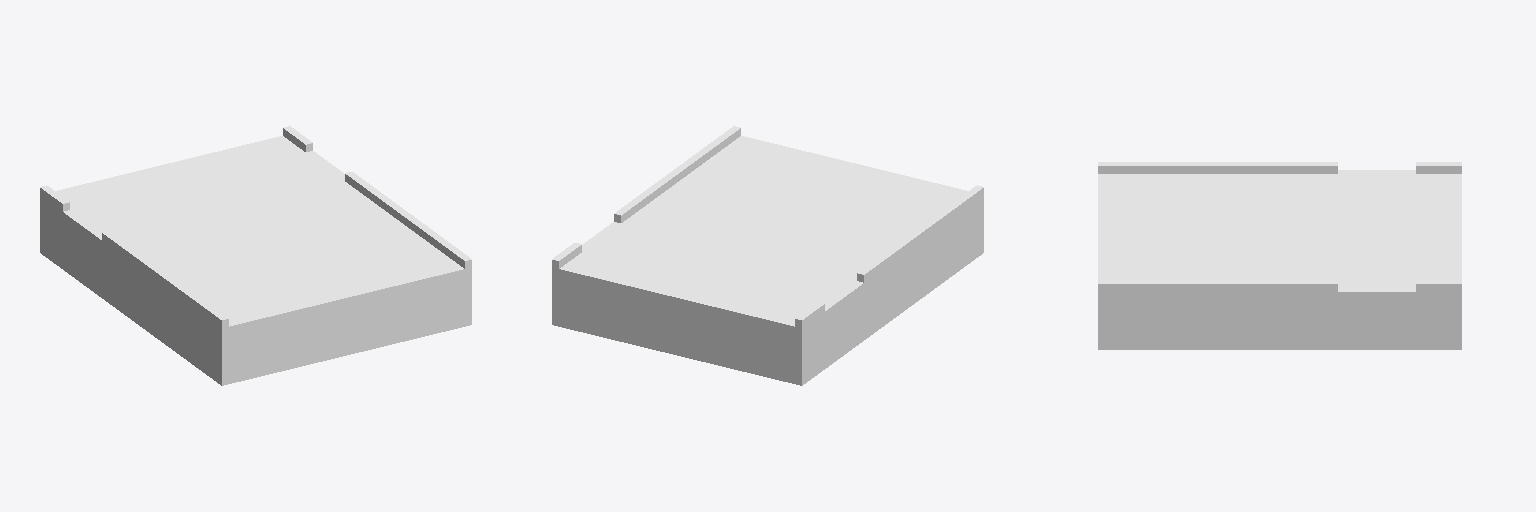
File: FaixaDePedestre.obj
3 renders of one model, left to right at view 1: azimuth 30°, elevation 25°; view 2: azimuth 150°, elevation 25°; view 3: azimuth 270°, elevation 25°, orthographic.
Size of the model in its own units: 100 by 25 by 126.